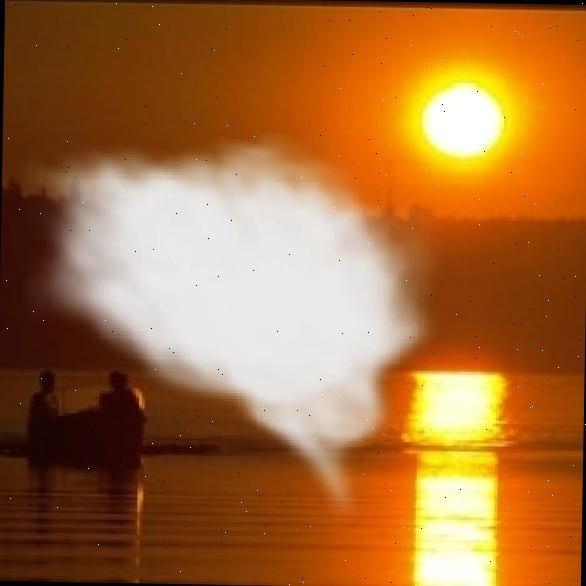smoke: (17, 126, 447, 526)
